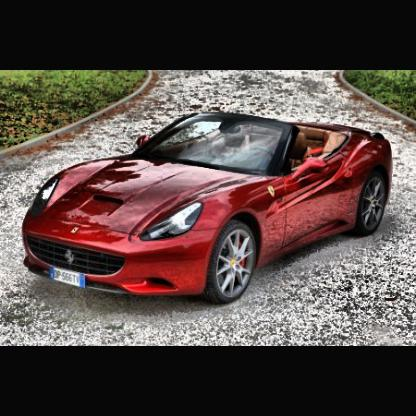Ferrari California Convertible 2012: (24, 112, 395, 307)
